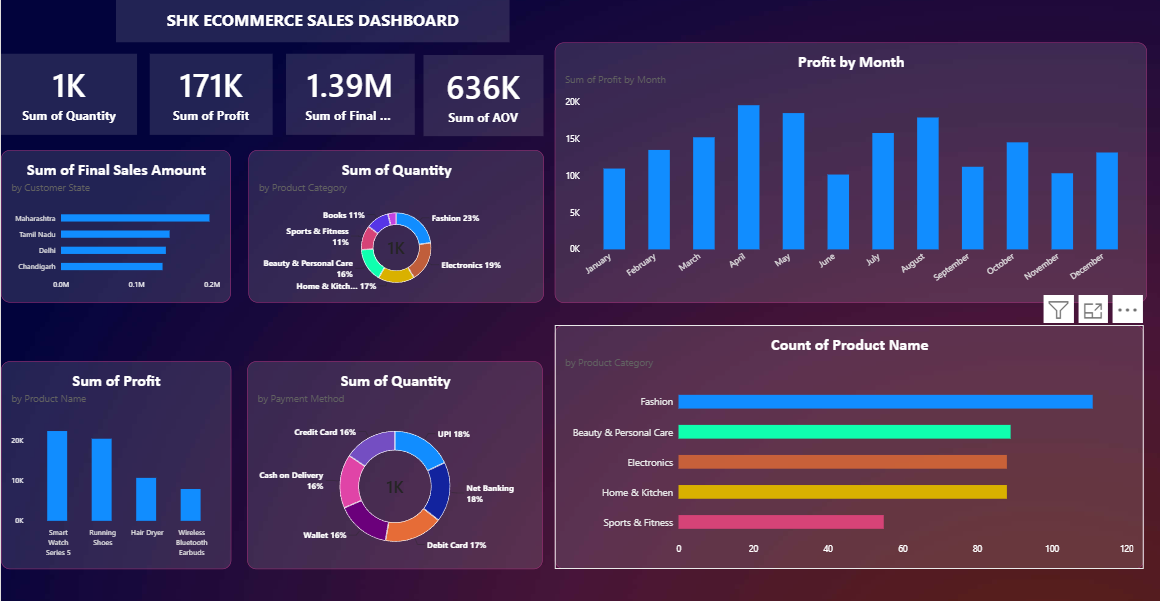

This screenshot's page, from the dashboard's own definition file:
{"tool":"powerbi","page":{"name":"Page 3","canvas":[1920,1080],"ordinal":0},"visuals":[{"type":"textbox","box":[189.4,41.2,648.4,70],"z":0},{"type":"columnChart","title":"Profit by Month","fields":{"Category":["E-commerce Orders.Order Date.Variation.Date Hierarchy.Month"],"Y":["Sum(E-commerce Orders.Profit)"]},"box":[911.8,111.1,975.4,428.9],"z":1000},{"type":"barChart","fields":{"Category":["E-commerce Orders.Product Category"],"Y":["CountNonNull(E-commerce Orders.Product Name)"]},"box":[911.7,575.5,970.3,401.7],"z":2000},{"type":"donutChart","fields":{"Category":["E-commerce Orders.Product Category"],"Y":["Sum(E-commerce Orders.Quantity)"]},"box":[407.5,288.2,486.8,251.5],"z":3000},{"type":"donutChart","fields":{"Category":["E-commerce Orders.Payment Method"],"Y":["Sum(E-commerce Orders.Quantity)"]},"box":[405.4,635.2,486.8,342],"z":4000},{"type":"cardVisual","fields":{"Data":["Sum(E-commerce Orders.Final Sales Amount)"]},"box":[469.3,129.7,211.7,133.9],"z":4001},{"type":"cardVisual","fields":{"Data":["Sum(E-commerce Orders.Quantity)"]},"box":[0,129.7,224.4,133.9],"z":4002},{"type":"cardVisual","fields":{"Data":["Sum(E-commerce Orders.Profit)"]},"box":[244.9,129.7,202.7,133.9],"z":4003},{"type":"cardVisual","fields":{"Data":["Sum(E-commerce Orders.AOV)"]},"box":[695.7,131.7,197.3,133.9],"z":4004},{"type":"barChart","fields":{"Category":["E-commerce Orders.Customer State"],"Y":["Sum(E-commerce Orders.Final Sales Amount)"]},"box":[0,288.2,378.7,251.1],"z":4005},{"type":"columnChart","fields":{"Category":["E-commerce Orders.Product Name"],"Y":["Sum(E-commerce Orders.Profit)"]},"box":[0,636,379,342],"z":4006}]}

Visuals, with their boxes on the page's 1920x1080 design canvas (x1, y1, x2, y2). These are canvas units, not pixel positions in the 1160x601 screenshot, which may show the page scaled, cropped or inside an application window:
textbox: {"x1": 189, "y1": 41, "x2": 838, "y2": 111}
"Profit by Month" columnChart: {"x1": 912, "y1": 111, "x2": 1887, "y2": 540}
barChart - E-commerce Orders.Product Category x CountNonNull(E-commerce Orders.Product Name): {"x1": 912, "y1": 576, "x2": 1882, "y2": 977}
donutChart - E-commerce Orders.Product Category x Sum(E-commerce Orders.Quantity): {"x1": 408, "y1": 288, "x2": 894, "y2": 540}
donutChart - E-commerce Orders.Payment Method x Sum(E-commerce Orders.Quantity): {"x1": 405, "y1": 635, "x2": 892, "y2": 977}
cardVisual - Sum(E-commerce Orders.Final Sales Amount): {"x1": 469, "y1": 130, "x2": 681, "y2": 264}
cardVisual - Sum(E-commerce Orders.Quantity): {"x1": 0, "y1": 130, "x2": 224, "y2": 264}
cardVisual - Sum(E-commerce Orders.Profit): {"x1": 245, "y1": 130, "x2": 448, "y2": 264}
cardVisual - Sum(E-commerce Orders.AOV): {"x1": 696, "y1": 132, "x2": 893, "y2": 266}
barChart - E-commerce Orders.Customer State x Sum(E-commerce Orders.Final Sales Amount): {"x1": 0, "y1": 288, "x2": 379, "y2": 539}
columnChart - E-commerce Orders.Product Name x Sum(E-commerce Orders.Profit): {"x1": 0, "y1": 636, "x2": 379, "y2": 978}
